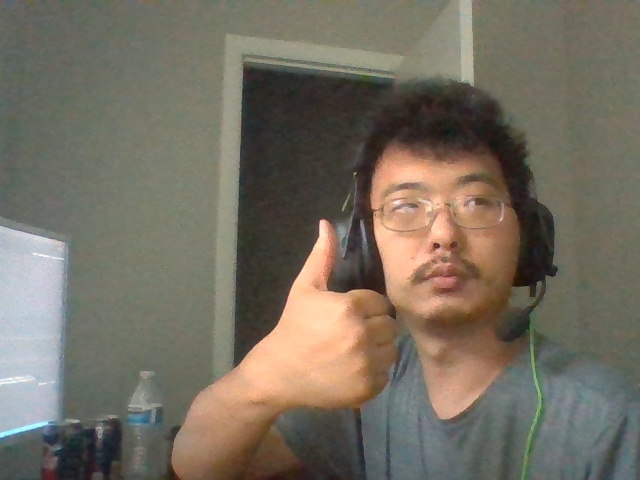ThumbsUp: (266, 218, 399, 412)
